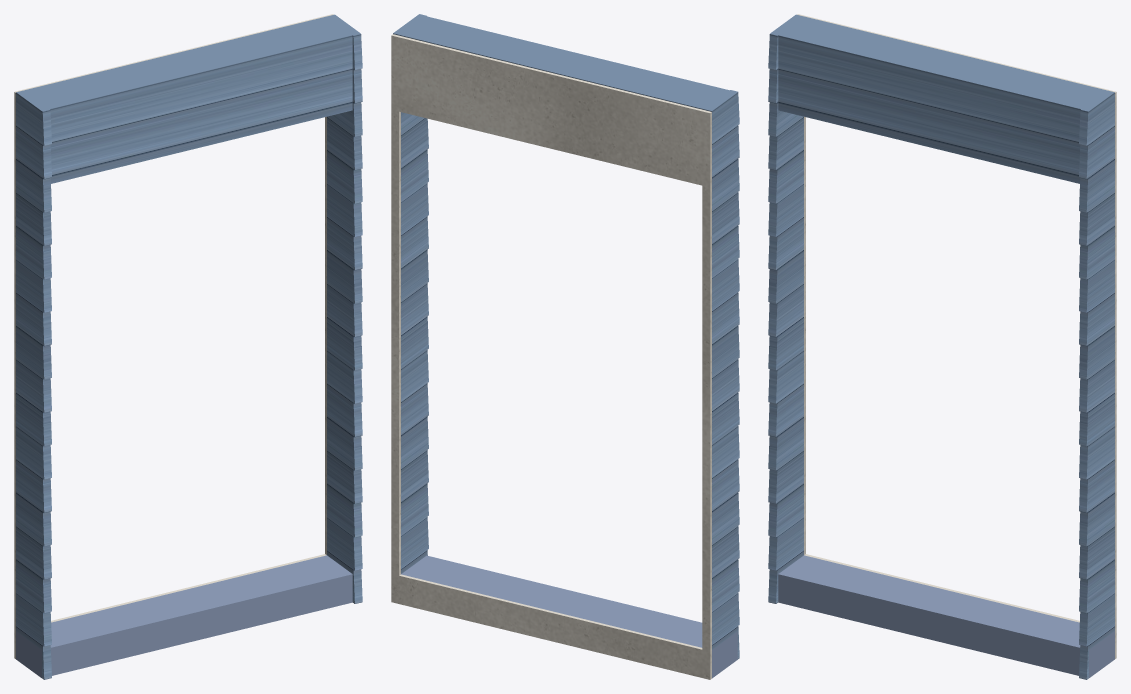
The model's file is f_u_bay_d.glb.
3 renders of one model, left to right at view 1: azimuth 30°, elevation 25°; view 2: azimuth 150°, elevation 25°; view 3: azimuth 330°, elevation 25°, orthographic.
Visible parts, largest first — view 1: f_u_bay_d_siding_d, f_u_bay_d_acc_d, f_u_bay_d_plaster; view 2: f_u_bay_d_plaster, f_u_bay_d_siding_d, f_u_bay_d_acc_d; view 3: f_u_bay_d_siding_d, f_u_bay_d_acc_d, f_u_bay_d_plaster.
Part boxes in pixels (<box>): f_u_bay_d_siding_d: <box>16,14,362,679</box>; f_u_bay_d_acc_d: <box>16,555,352,677</box>; f_u_bay_d_plaster: <box>14,14,333,658</box>; f_u_bay_d_plaster: <box>391,34,711,679</box>; f_u_bay_d_siding_d: <box>393,14,739,659</box>; f_u_bay_d_acc_d: <box>401,555,737,678</box>; f_u_bay_d_siding_d: <box>768,14,1114,679</box>; f_u_bay_d_acc_d: <box>778,555,1114,677</box>; f_u_bay_d_plaster: <box>797,14,1116,658</box>.
Size of the model in its own units: 2 by 3.4 by 0.324.
3 materials, 2 textured.
